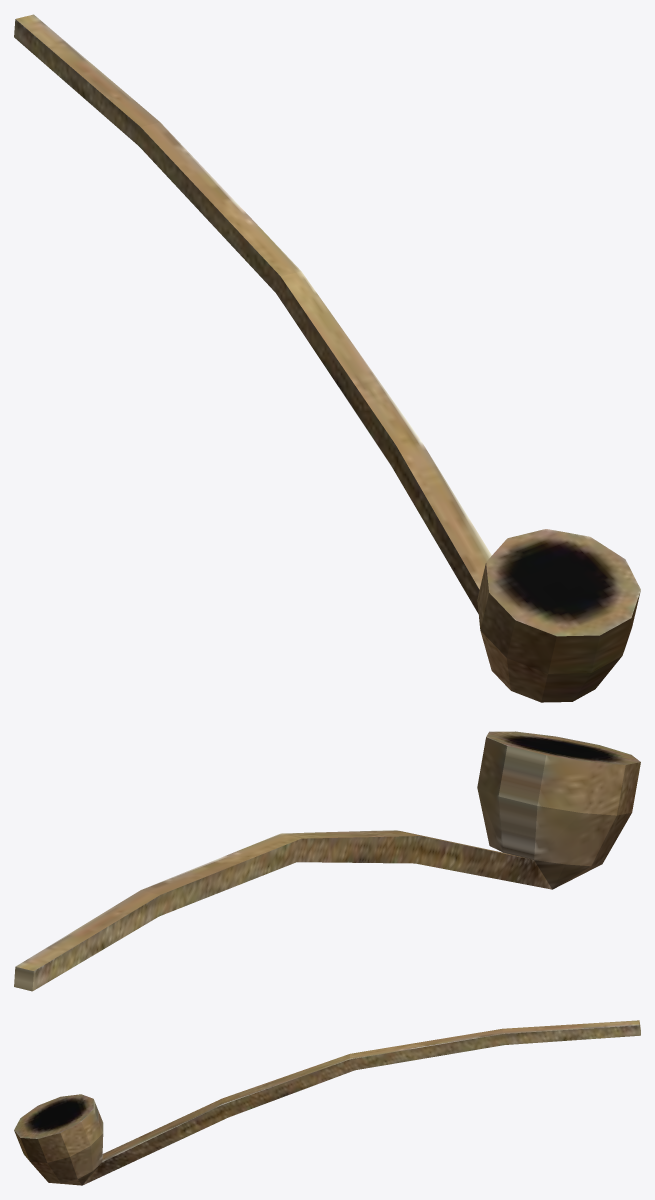
The model's file is IT_GANDALFPIPE.glb.
3 views of the same model, one above another, from view 1: azimuth 30°, elevation 25°; view 2: azimuth 150°, elevation 25°; view 3: azimuth 270°, elevation 25° (orthographic). The views are drawn at different scales.
Visible parts, largest first — view 1: IT_GANDALFPIPE; view 2: IT_GANDALFPIPE; view 3: IT_GANDALFPIPE.
Boxes of the visible parts, x1=… form: IT_GANDALFPIPE: x1=14, y1=14, x2=640, y2=702; IT_GANDALFPIPE: x1=14, y1=731, x2=640, y2=991; IT_GANDALFPIPE: x1=14, y1=1020, x2=640, y2=1185.
Bounding box in the file's own units: 0.0345 × 0.0705 × 0.2523.
1 material, 1 textured.
